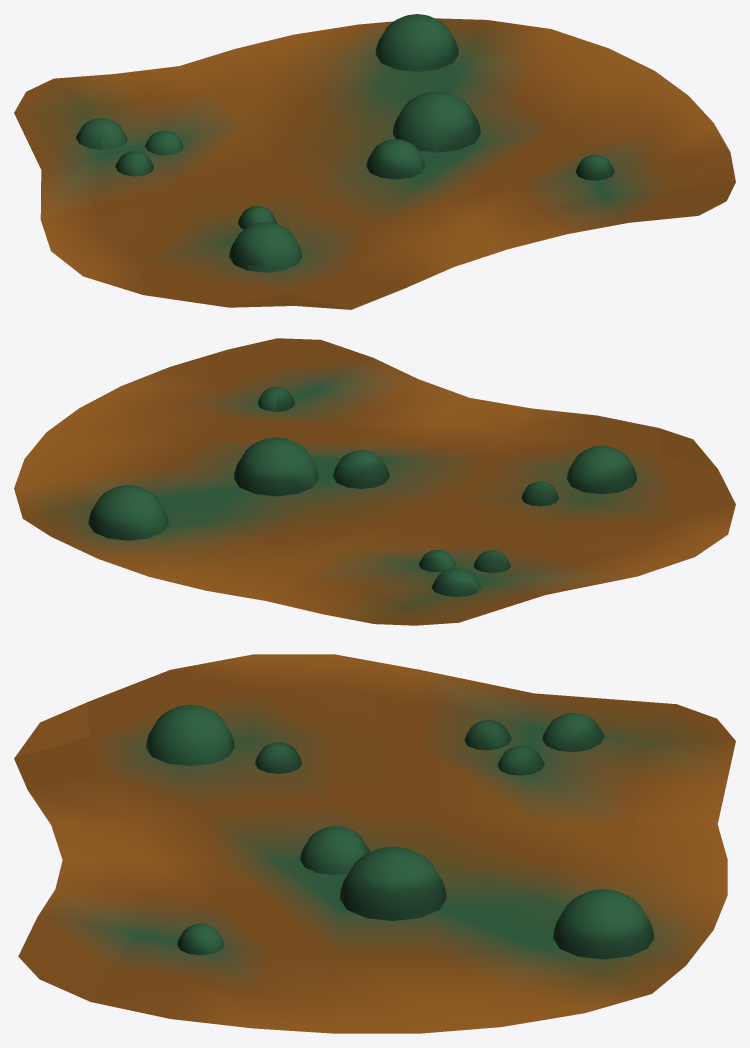
Rendered from Dust.fbx.
3 renders of one model, top to bottom at view 1: azimuth 30°, elevation 25°; view 2: azimuth 150°, elevation 25°; view 3: azimuth 270°, elevation 25°, orthographic. The views are drawn at different scales.
Visible parts, largest first — view 1: Plane.006; view 2: Plane.006; view 3: Plane.006.
Part boxes in pixels (left/top/right/bottom): Plane.006: left=14, top=14, right=735, bottom=309; Plane.006: left=14, top=338, right=735, bottom=625; Plane.006: left=14, top=654, right=735, bottom=1033.
Size of the model in its own units: 803 by 49.74 by 646.
